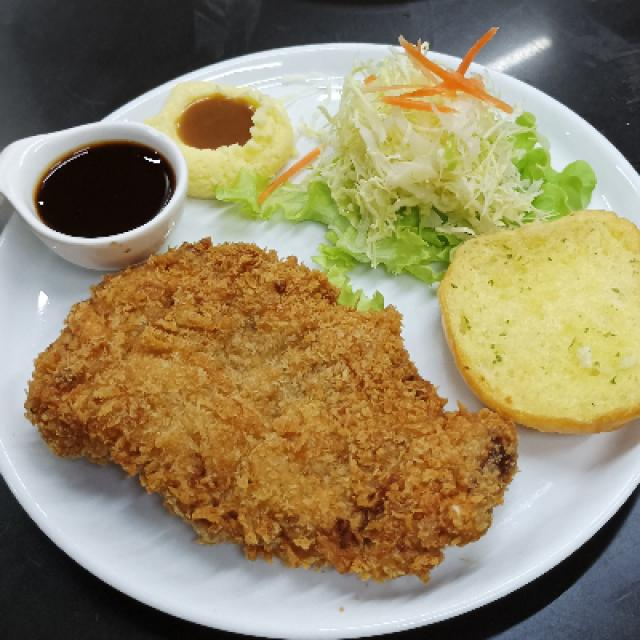Carbohydrate: (440, 202, 640, 428), (161, 82, 290, 198)
Protein: (29, 234, 516, 586)
Steak: (0, 43, 640, 622)
Vegetable: (315, 41, 590, 278)
